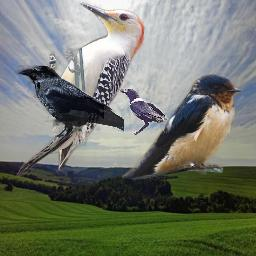Crow: (17, 65, 124, 136), (119, 88, 169, 135)
Swallow: (122, 73, 243, 180)
Woodpecker: (16, 0, 148, 177)
